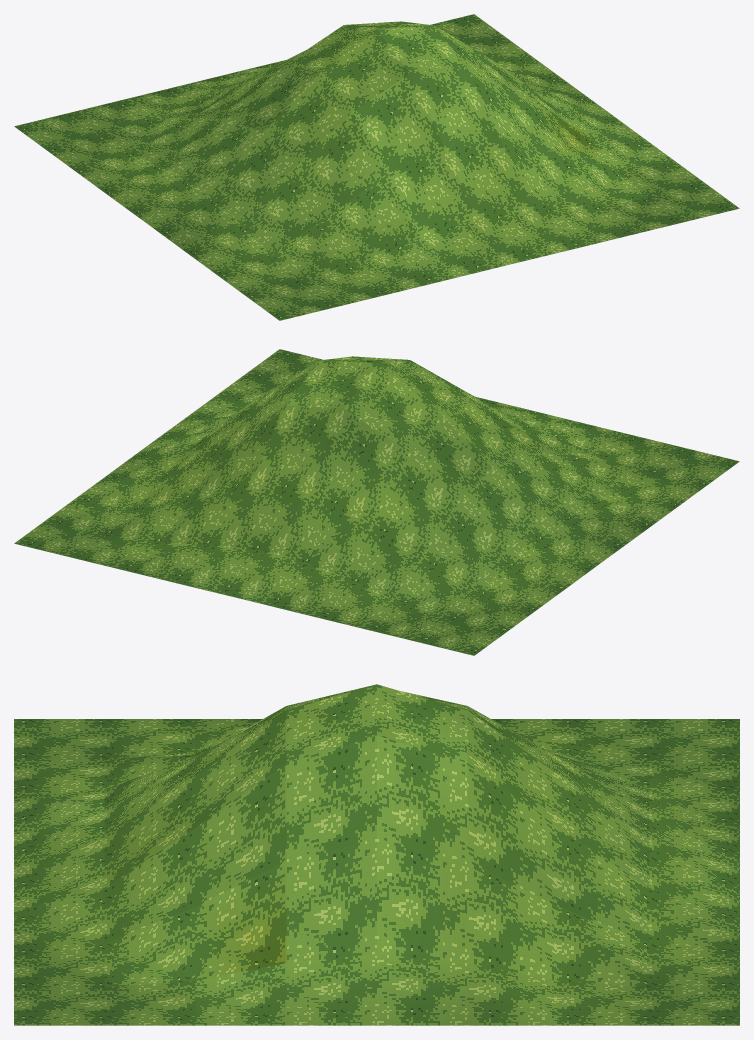
The model's file is mter.hill__big.glb.
3 renders of one model, top to bottom at view 1: azimuth 30°, elevation 25°; view 2: azimuth 150°, elevation 25°; view 3: azimuth 270°, elevation 25°, orthographic. The views are drawn at different scales.
Visible parts, largest first — view 1: kit_shell_hill; view 2: kit_shell_hill; view 3: kit_shell_hill.
Part boxes in pixels (x1,y1,x2,y2): kit_shell_hill: [14, 14, 739, 320]; kit_shell_hill: [14, 349, 739, 655]; kit_shell_hill: [14, 684, 739, 1025].
Bounding box in the file's own units: 28 × 8 × 28.
Materials: 1 (1 with a texture image).
